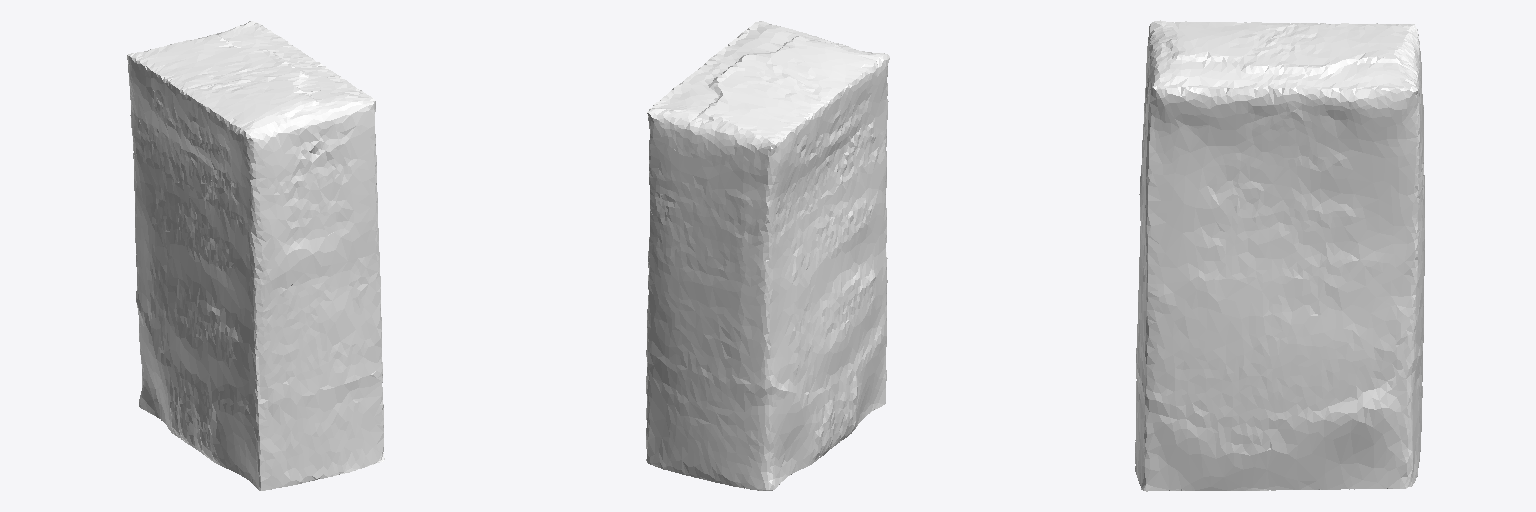
robot.urdf — sugar:
<?xml version="1.0" ?>
<robot name="sugar">
 <link name="baseLink">
   <contact>
     <lateral_friction value="0.5"/>
   </contact>
   <inertial>
     <origin rpy="0 0 0" xyz="0.0029 -0.00064 -0.010247"/>
      <mass value="1.0"/>
      <inertia ixx="0.000001" ixy="0.000000" ixz="0.000000" iyy="0.000001" iyz="-0.000000" izz="0.000000"/>
   </inertial>
   <visual>
     <origin rpy="0 0 0" xyz="0 0 0"/>
     <geometry>
       <mesh filename="sugar.obj" scale="1.0 1.0 1.0"/>
     </geometry>
      <material name="white">
       <color rgba="1 1 1 1"/>
     </material>
   </visual>
   <collision>
     <origin rpy="0 0 0" xyz="0 0 0"/>
     <geometry>
       <mesh filename="sugar_vhacd2.obj" scale="1.0 1.0 1.0"/>
     </geometry>
   </collision>
 </link>
</robot>

--- Facts derived from the render (not from the file) ---
Views: 3 orthographic renders of the robot side by side, from view 1: azimuth 30°, elevation 25°; view 2: azimuth 150°, elevation 25°; view 3: azimuth 270°, elevation 25°.
Robot: sugar — 1 links, 0 joints (none); root link baseLink; default pose: all joints at 0.
Links seen in each view (by area): view 1: baseLink; view 2: baseLink; view 3: baseLink.
Boxes of the visible links, <box> form: baseLink: <box>127,21,384,490</box>; baseLink: <box>646,21,889,490</box>; baseLink: <box>1135,20,1424,491</box>.
Bounding box of the posed robot: 0.0513 × 0.0809 × 0.1248 m (x, y, z).
1 mesh visuals loaded from 1 distinct referenced files (1 OBJ).